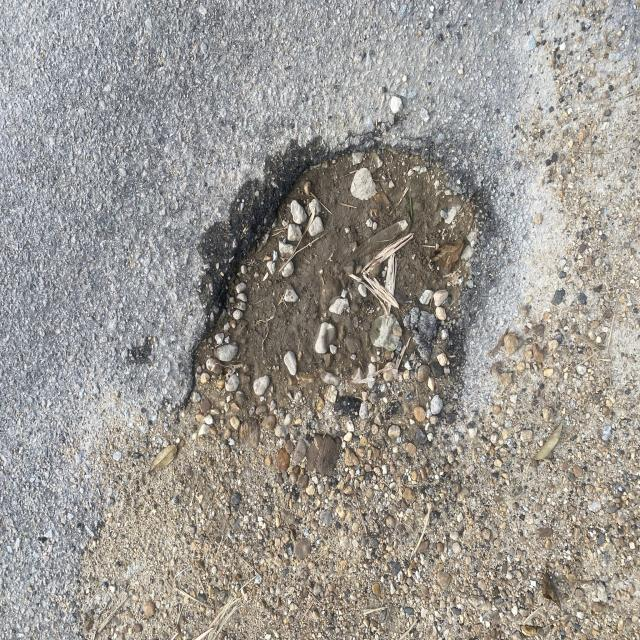pothole: (175, 113, 496, 473)
